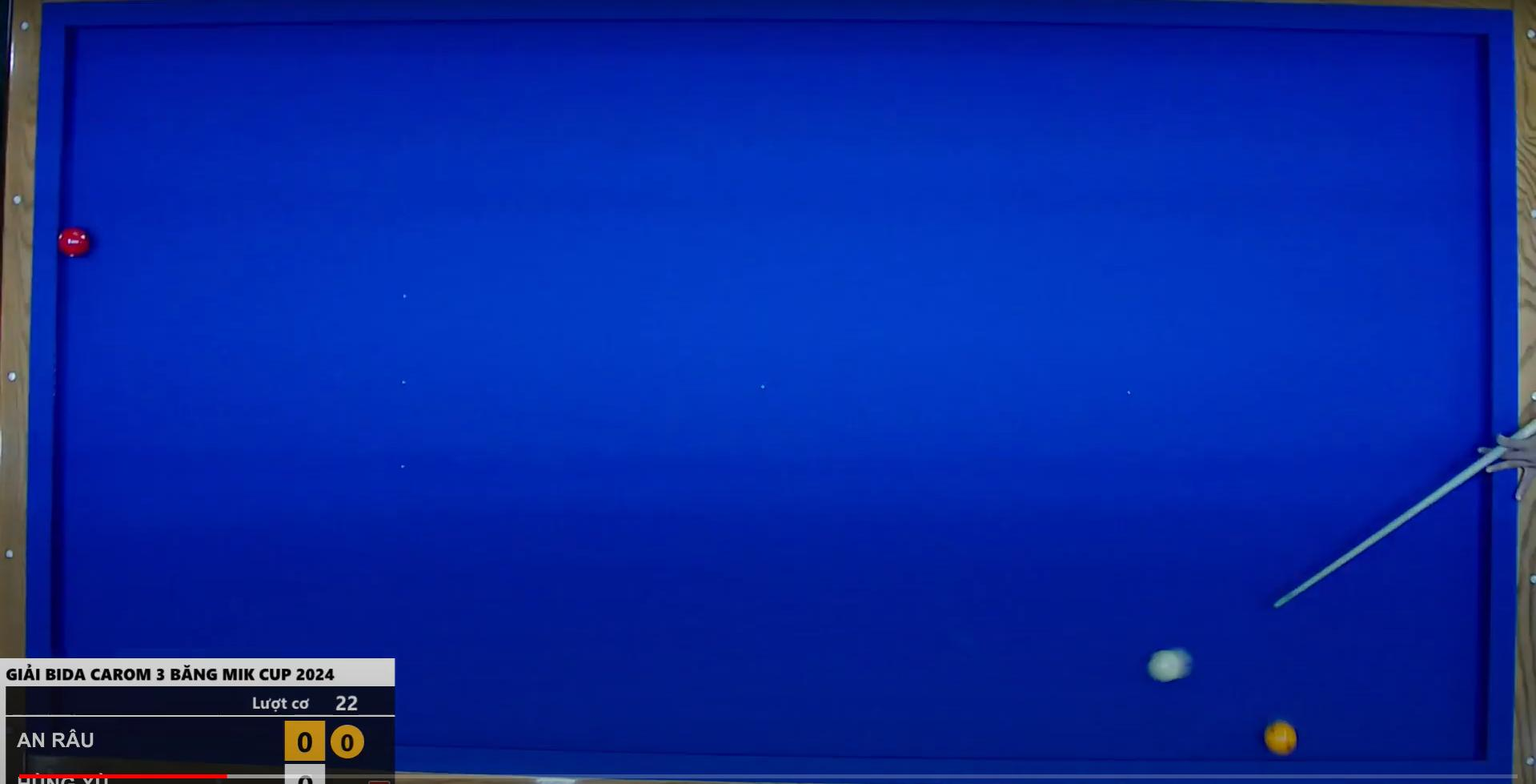red ball: (48, 214, 100, 275)
white ball: (1140, 636, 1201, 694)
yellow ball: (1258, 717, 1303, 759)
